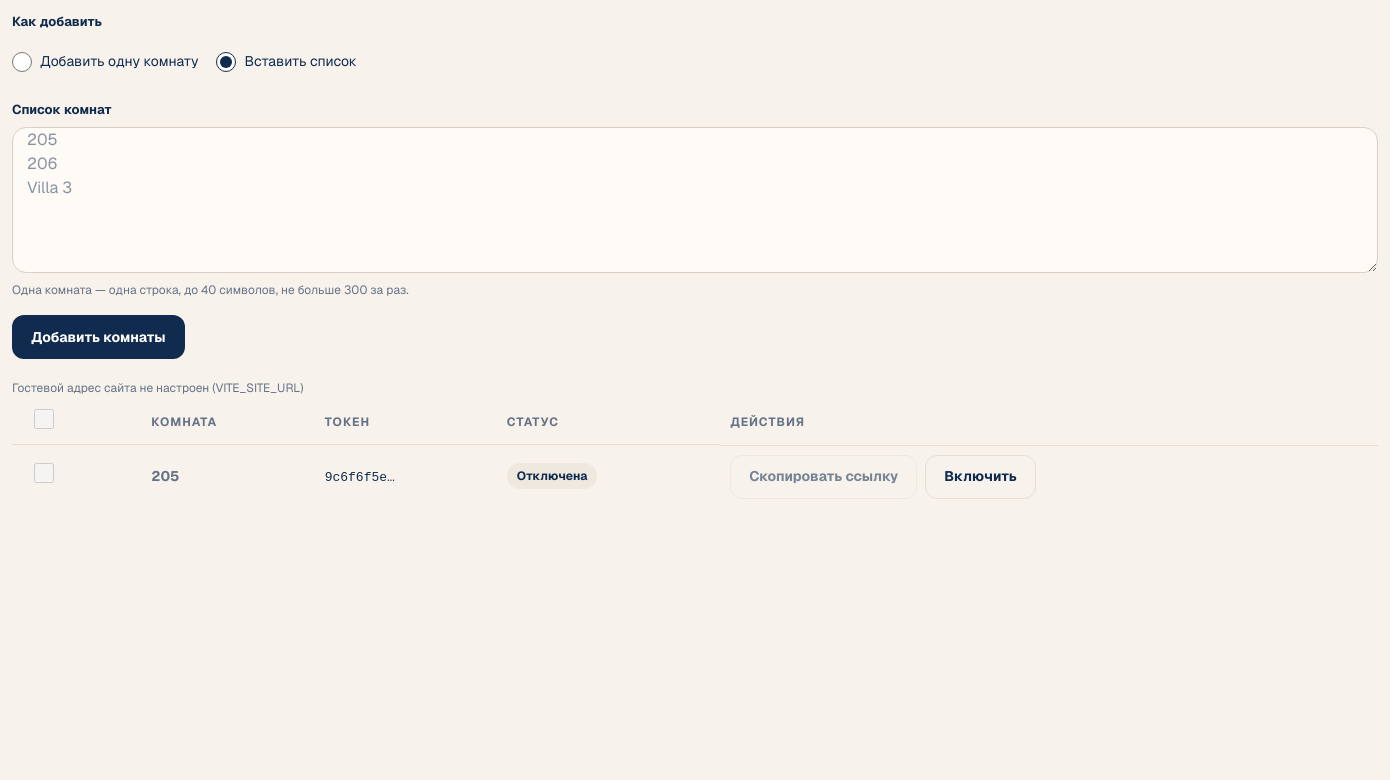
RoomEditor › re-enables a room without confirmation and reports failures
This screenshot has width=1390, height=780.
Check: the text "Отключена" is shown, box [507,463,597,489]
Click the button with aria-label "Включить комнату 205": (981, 476) [925,454,1036,498]
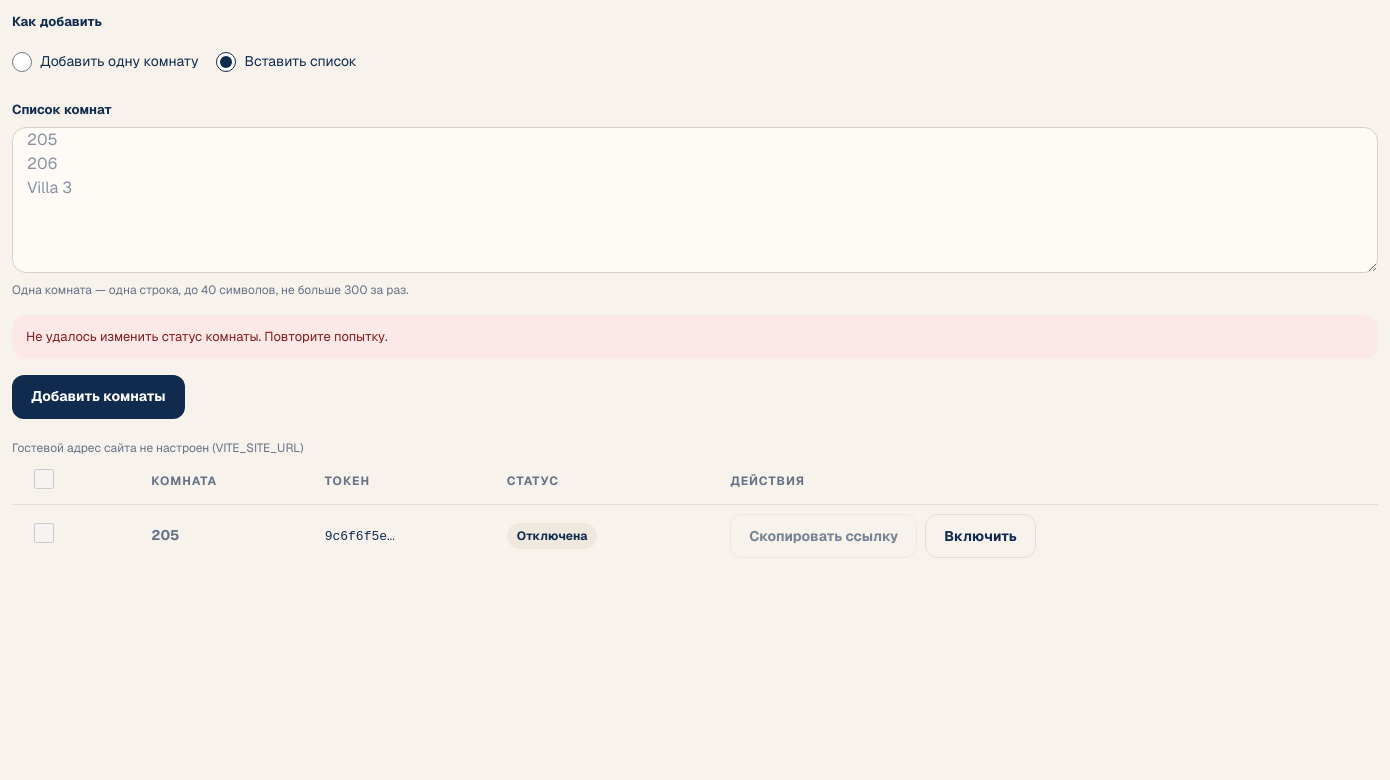
Check: the button with aria-label "Включить комнату 205" is enabled, box [925,514,1036,558]
Check: the message reads "Не удалось изменить статус комнаты. Повторите попытку.", box [26,328,388,345]
